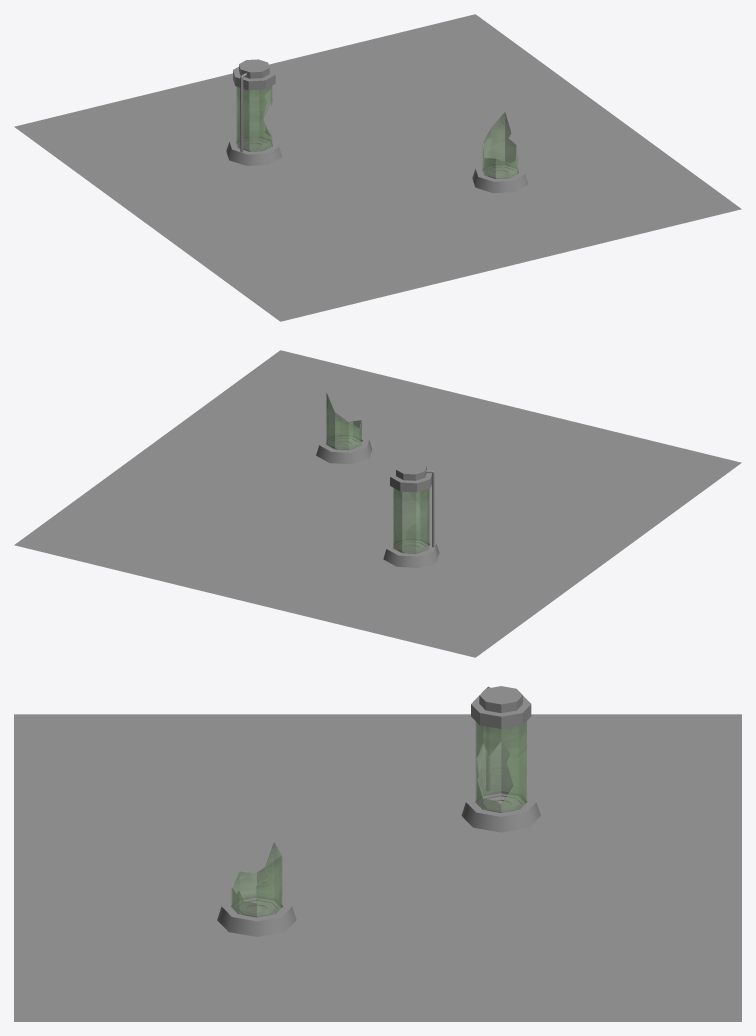
The model's file is TEST_Plant.fbx.
3 renders of one model, top to bottom at view 1: azimuth 30°, elevation 25°; view 2: azimuth 150°, elevation 25°; view 3: azimuth 270°, elevation 25°, orthographic. The views are drawn at different scales.
Parts seen in each view (by area): view 1: Plant_Floor, Plant_Obj1, Plant_Obj2; view 2: Plant_Floor, Plant_Obj1, Plant_Obj2; view 3: Plant_Floor, Plant_Obj1, Plant_Obj2.
Part boxes in pixels (left/top/right/bottom): Plant_Floor: left=14, top=14, right=741, bottom=321; Plant_Obj1: left=226, top=59, right=282, bottom=165; Plant_Obj2: left=472, top=112, right=528, bottom=193; Plant_Floor: left=14, top=350, right=741, bottom=657; Plant_Obj1: left=383, top=461, right=439, bottom=567; Plant_Obj2: left=316, top=392, right=372, bottom=464; Plant_Floor: left=14, top=714, right=741, bottom=1021; Plant_Obj1: left=461, top=686, right=540, bottom=832; Plant_Obj2: left=217, top=842, right=296, bottom=936.
Size of the model in its own units: 712 by 130 by 712.
Materials: 3 (1 with a texture image).
